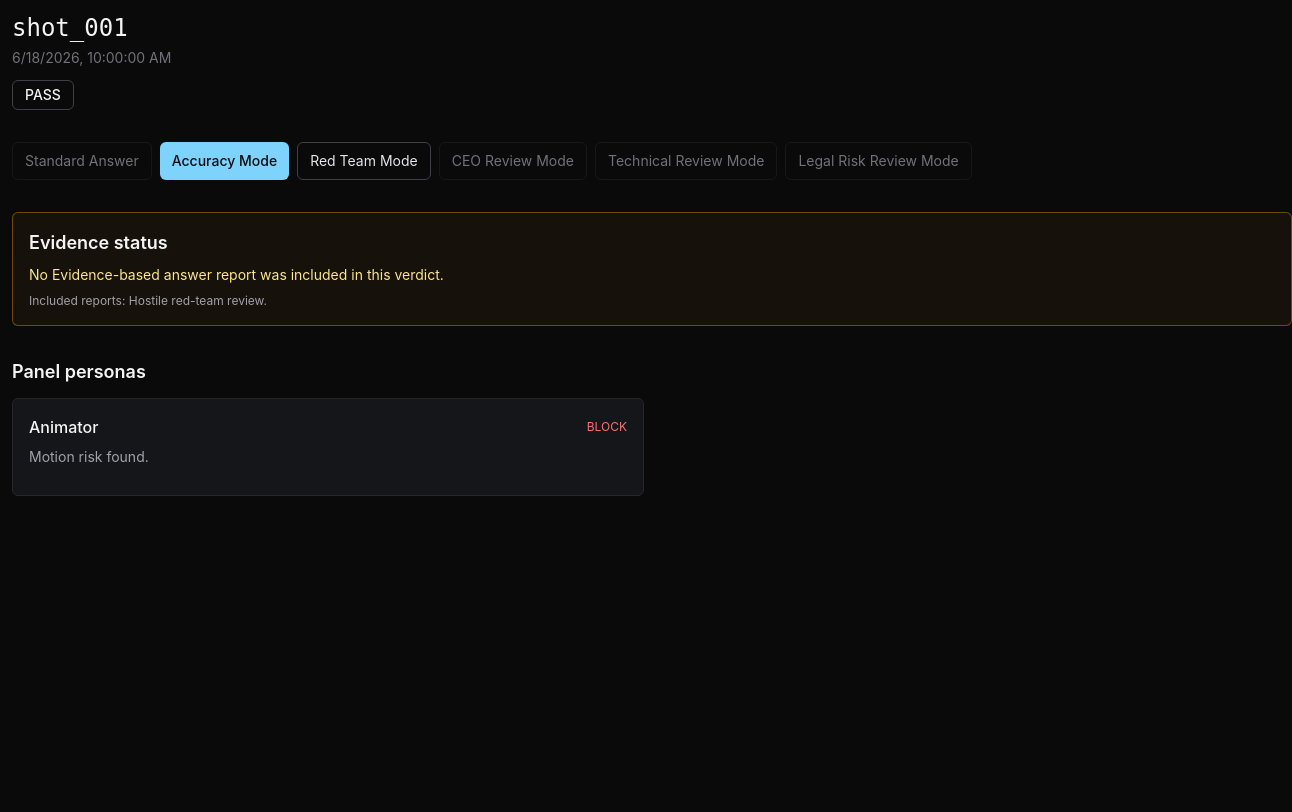
Test: VerdictDetail › finds persona-level response-quality reports
Click the button "Red Team Mode" at (364, 161), box [297,142,431,180]
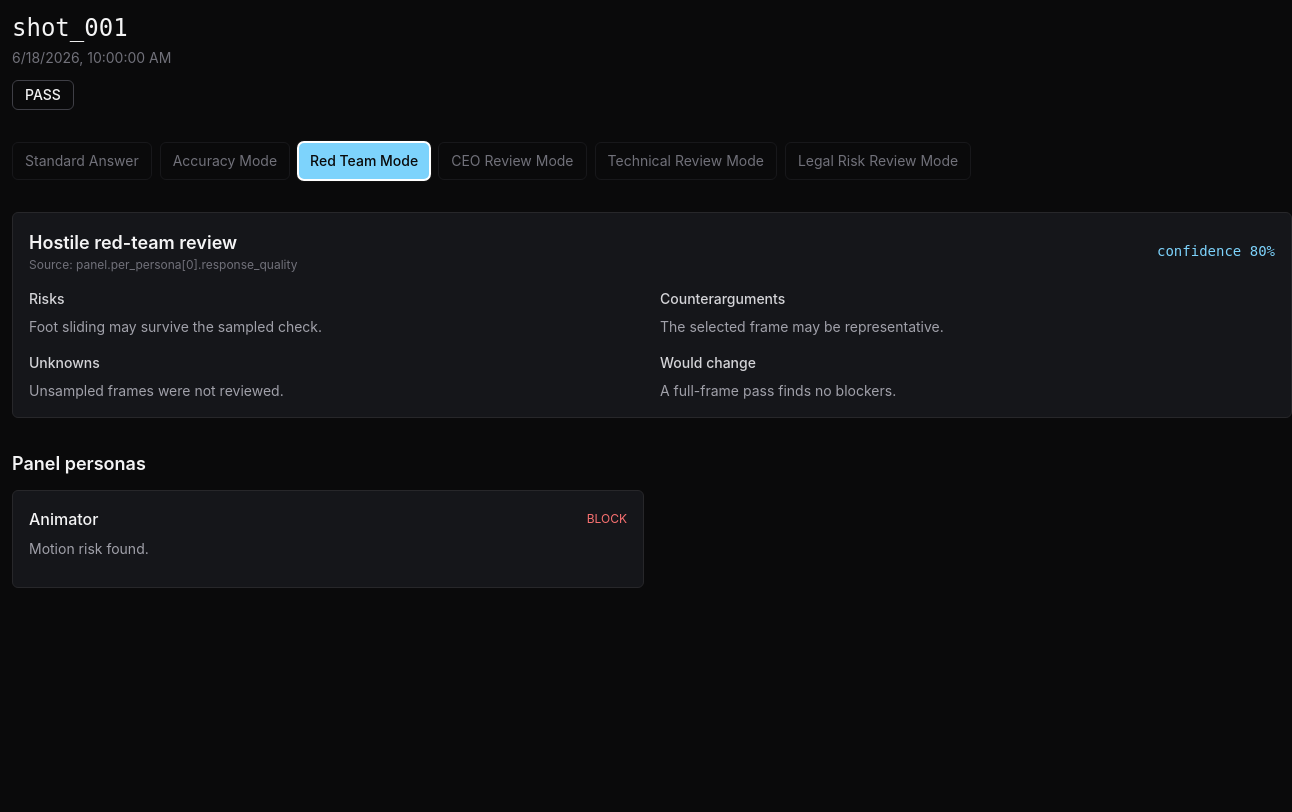
Expected: the heading "Hostile red-team review" is shown, [29,232,237,253]
Expected: the text "Source: panel.per_persona[0].response_quality" is shown, [29,257,297,273]
